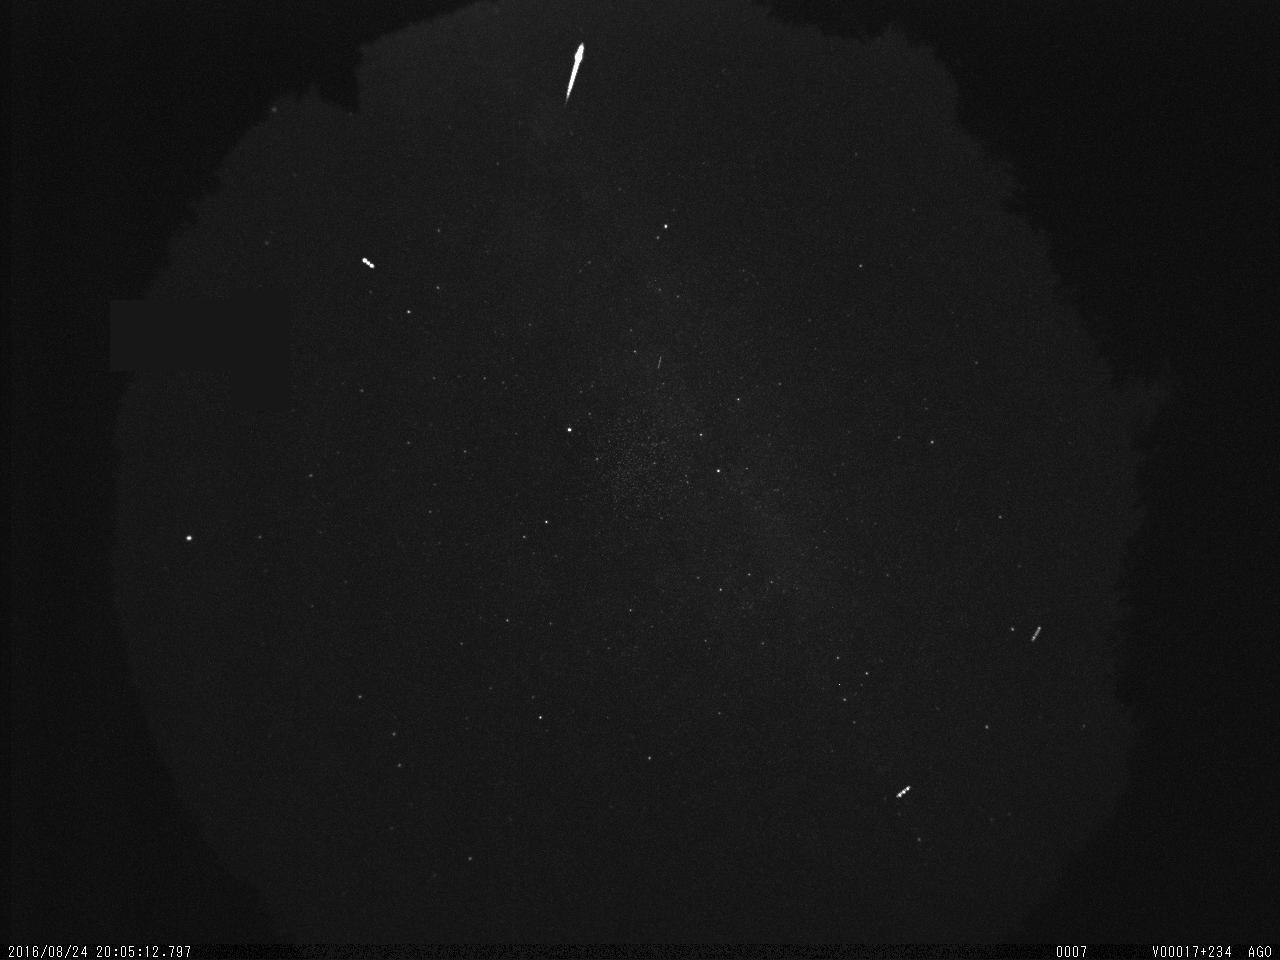meteor: (554, 35, 593, 112)
